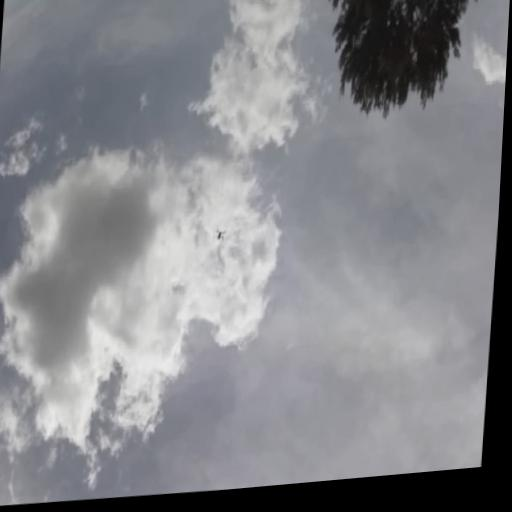drones: (211, 224, 229, 248)
